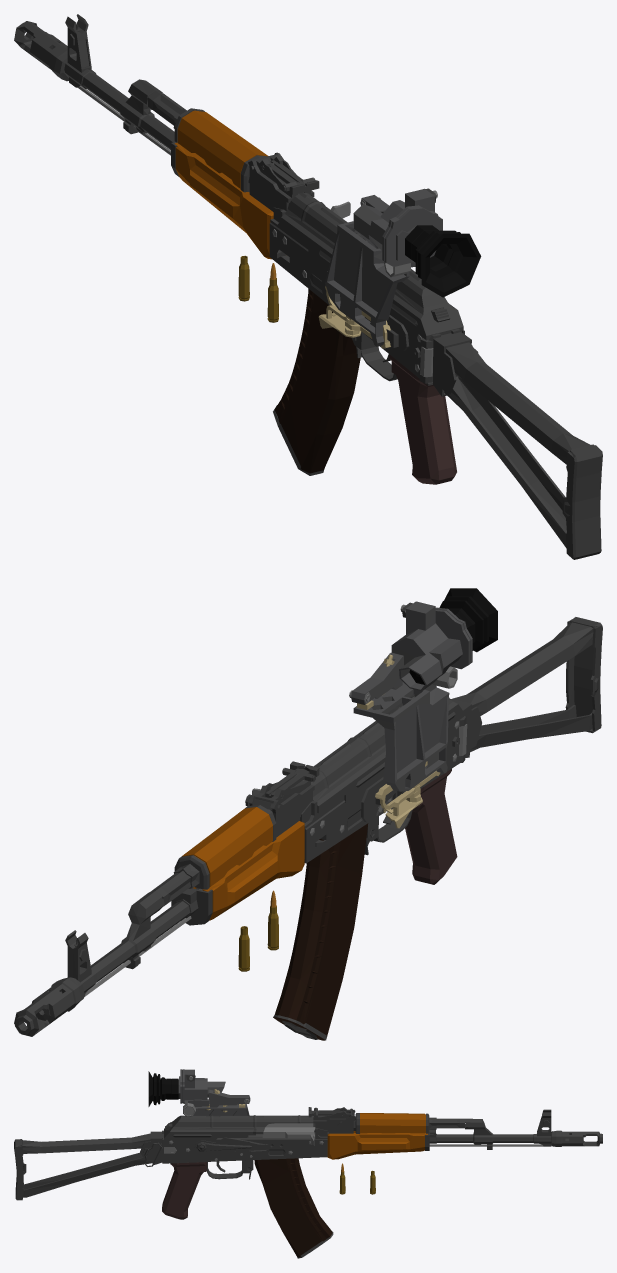
File: low-poly_aks-74n.glb
3 renders of one model, top to bottom at view 1: azimuth 30°, elevation 25°; view 2: azimuth 150°, elevation 25°; view 3: azimuth 270°, elevation 25°, orthographic. The views are drawn at different scales.
Visible parts, largest first — view 1: folding_stock_22, receiver_17, 1P29_20, Cube.003_24, dust_cover_12, grip_10, Cube.002_21, handguard_lower_8, handguard_upper_7, 6P20_muzzle_brake_18, gas_tube_11, barrel.001_16 (+1 smaller); view 2: 1P29_20, receiver_17, Cube.003_24, folding_stock_22, dust_cover_12, handguard_lower_8, grip_10, handguard_upper_7, 6P20_muzzle_brake_18, Cube.002_21, gas_tube_11, lower_handguard_cover_6 (+2 smaller); view 3: receiver_17, Cube.003_24, folding_stock_22, dust_cover_12, 1P29_20, handguard_lower_8, grip_10, handguard_upper_7, safety_selector_2, bolt_carrier_14, Cube.002_21, 6P20_muzzle_brake_18 (+2 smaller).
Boxes of the visible parts, x1=… form: folding_stock_22: x1=420, y1=332, x2=602, y2=559; receiver_17: x1=64, y1=14, x2=464, y2=385; 1P29_20: x1=325, y1=188, x2=442, y2=348; Cube.003_24: x1=273, y1=289, x2=360, y2=475; dust_cover_12: x1=281, y1=192, x2=463, y2=340; grip_10: x1=389, y1=354, x2=456, y2=484; Cube.002_21: x1=405, y1=225, x2=481, y2=297; handguard_lower_8: x1=174, y1=142, x2=273, y2=259; handguard_upper_7: x1=177, y1=110, x2=267, y2=188; 6P20_muzzle_brake_18: x1=14, y1=21, x2=68, y2=81; gas_tube_11: x1=148, y1=90, x2=266, y2=192; barrel.001_16: x1=262, y1=160, x2=319, y2=194; 1P29_20: x1=349, y1=601, x2=472, y2=809; receiver_17: x1=62, y1=720, x2=465, y2=1000; Cube.003_24: x1=273, y1=823, x2=368, y2=1040; folding_stock_22: x1=450, y1=617, x2=602, y2=757; dust_cover_12: x1=302, y1=694, x2=463, y2=812; handguard_lower_8: x1=193, y1=821, x2=304, y2=920; grip_10: x1=405, y1=769, x2=457, y2=884; handguard_upper_7: x1=182, y1=807, x2=272, y2=886; 6P20_muzzle_brake_18: x1=14, y1=977, x2=84, y2=1036; Cube.002_21: x1=439, y1=588, x2=497, y2=652; gas_tube_11: x1=150, y1=805, x2=276, y2=906; lower_handguard_cover_6: x1=171, y1=888, x2=212, y2=925; receiver_17: x1=162, y1=1107, x2=551, y2=1179; Cube.003_24: x1=254, y1=1158, x2=333, y2=1258; folding_stock_22: x1=14, y1=1131, x2=162, y2=1200; dust_cover_12: x1=164, y1=1115, x2=313, y2=1140; 1P29_20: x1=178, y1=1069, x2=250, y2=1116; handguard_lower_8: x1=327, y1=1131, x2=427, y2=1159; grip_10: x1=162, y1=1162, x2=206, y2=1219; handguard_upper_7: x1=360, y1=1113, x2=425, y2=1133; safety_selector_2: x1=194, y1=1137, x2=267, y2=1152; bolt_carrier_14: x1=256, y1=1123, x2=315, y2=1145; Cube.002_21: x1=148, y1=1071, x2=178, y2=1106; 6P20_muzzle_brake_18: x1=551, y1=1130, x2=602, y2=1146.
Size of the model in its own units: 0.0916 by 0.3366 by 0.9718.
